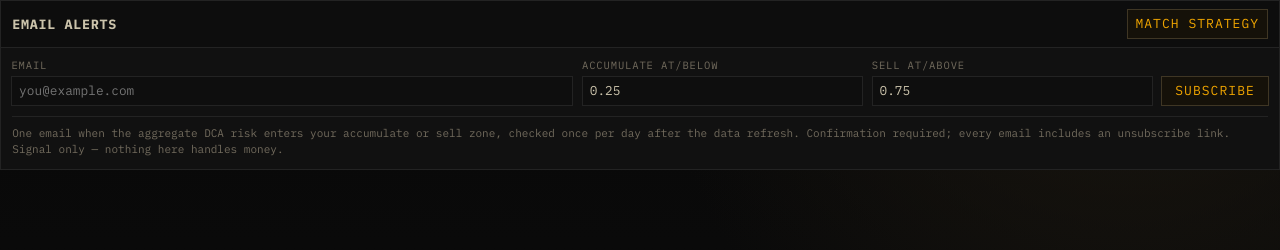
Scenario: AlertsSignupPanel › shows the server error when the API rejects the request
Step 1. Type "user@example.com" into the field labelled "Email" → point(292, 91), box [11,76,573,106]
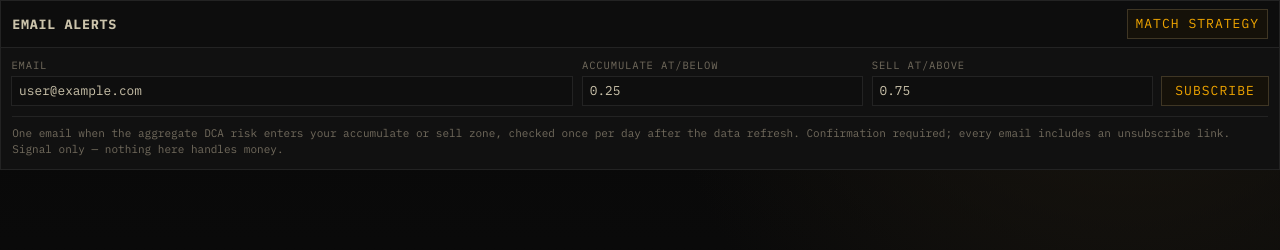
Step 2. Click the button "Subscribe" → point(1215, 91), box [1162,76,1269,106]
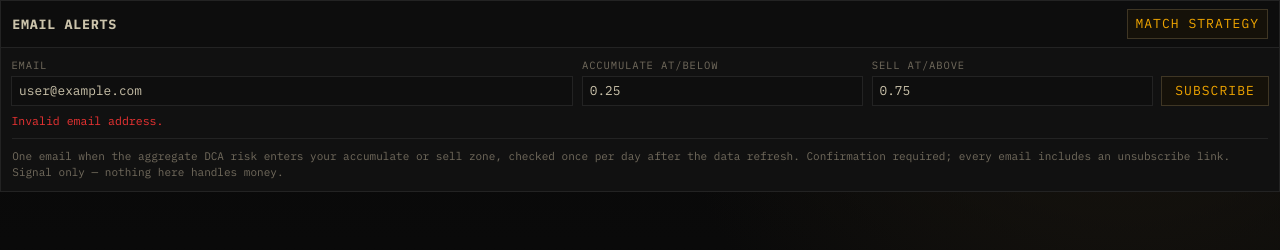
Now the message shows "Invalid email address", box [11,113,163,128]
